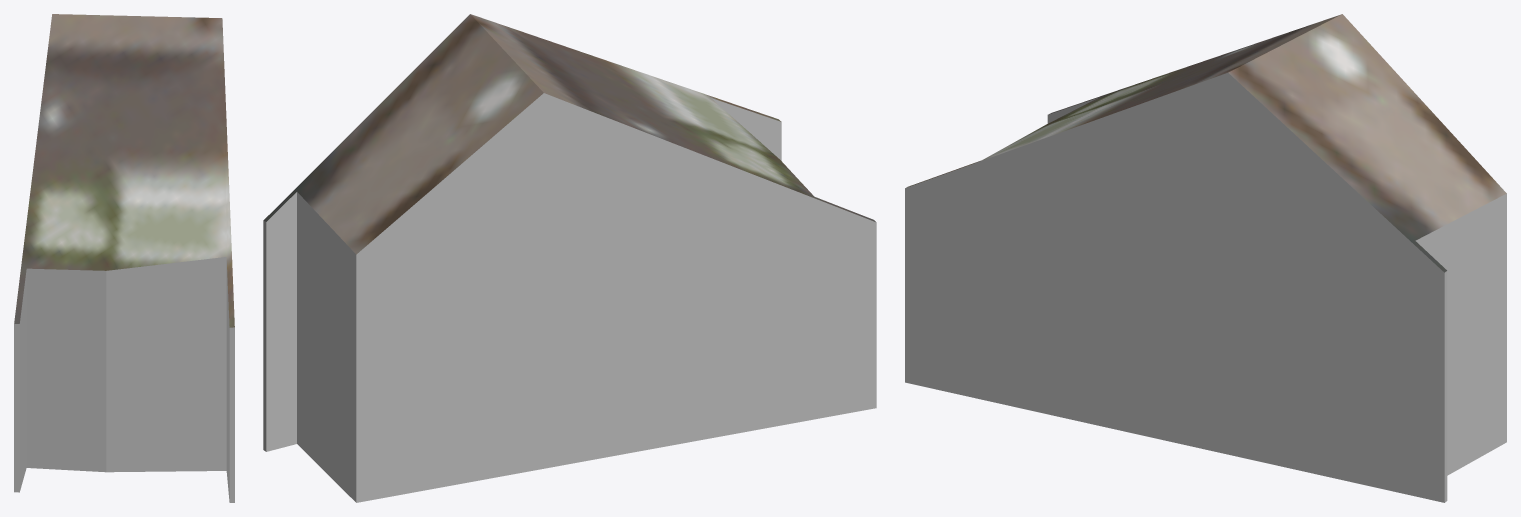
Rendered from DEBW_0010007TvlJ.gltf.
3 renders of one model, left to right at view 1: azimuth 30°, elevation 25°; view 2: azimuth 150°, elevation 25°; view 3: azimuth 270°, elevation 25°, orthographic. The views are drawn at different scales.
Parts seen in each view (by area): view 1: Z_UP; view 2: Z_UP; view 3: Z_UP.
Part boxes in pixels (x1=…): Z_UP: x1=14, y1=14, x2=234, y2=502; Z_UP: x1=263, y1=14, x2=876, y2=502; Z_UP: x1=905, y1=14, x2=1506, y2=502.
Bounding box in the file's own units: 13.19 × 11.52 × 16.45.
Materials: 2 (1 with a texture image).
